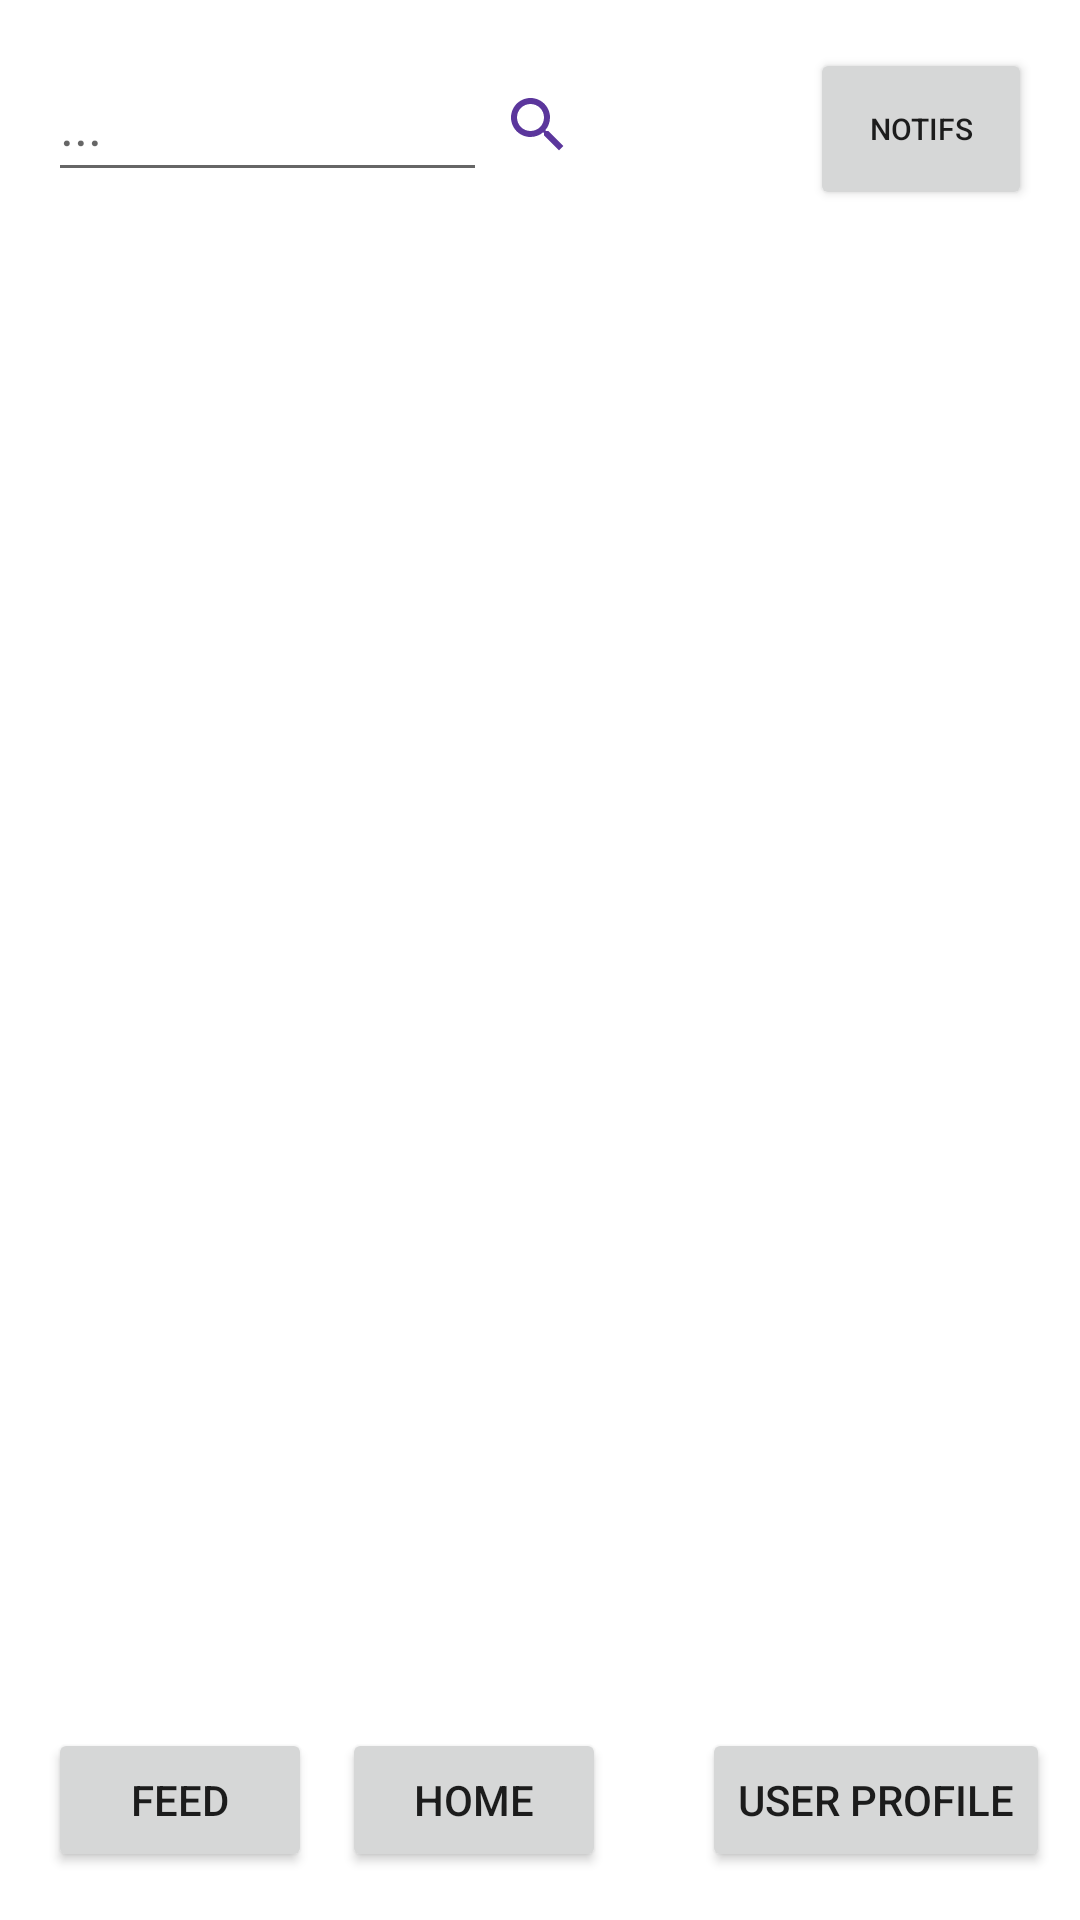

Icons on this 1080×1920 Android screen, each with its box as (x1, y1, x2, y2):
search: (511, 98, 563, 150)
